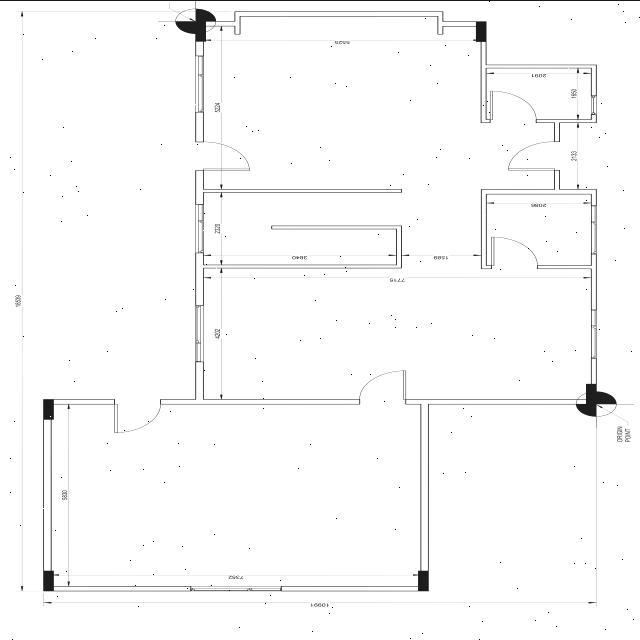Column: (417, 570, 429, 592), (475, 20, 487, 41), (42, 570, 54, 590), (196, 19, 206, 41), (44, 398, 54, 419), (586, 382, 596, 402)
Door: (360, 368, 408, 404), (195, 140, 252, 170), (113, 398, 163, 432), (507, 140, 561, 170), (488, 90, 538, 122), (490, 235, 538, 268)
Window: (194, 54, 204, 112), (190, 584, 282, 590), (195, 304, 204, 362), (194, 204, 204, 252), (591, 204, 597, 254), (590, 309, 596, 358), (591, 94, 597, 114)
